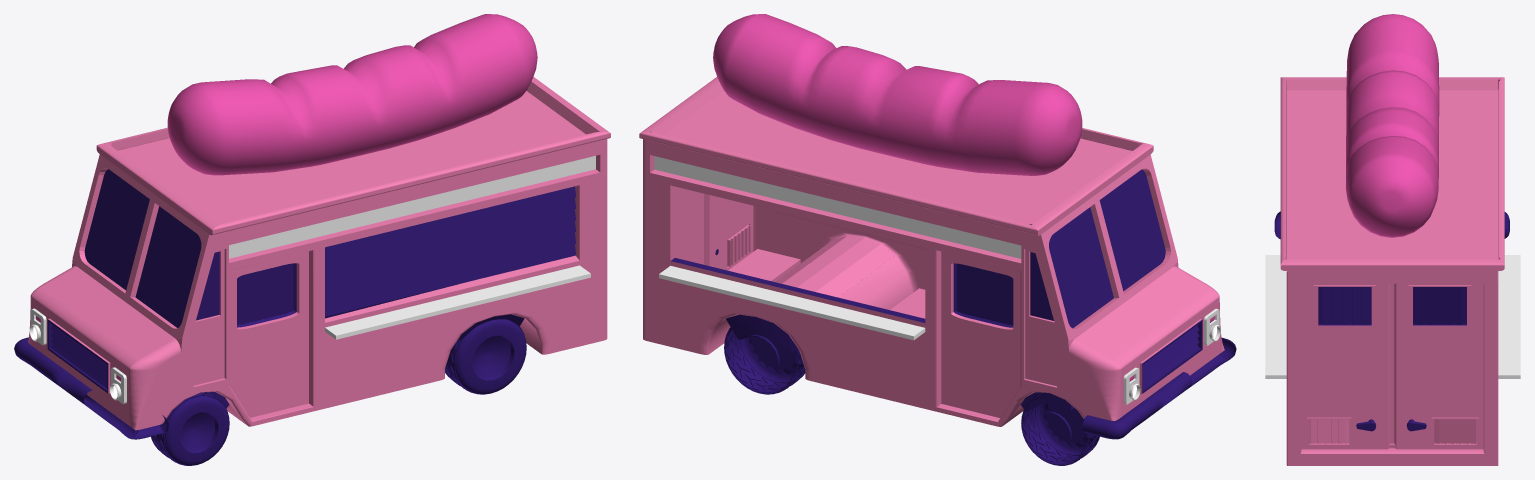
File: truck.glb
3 views of the same model, side by side, from view 1: azimuth 30°, elevation 25°; view 2: azimuth 150°, elevation 25°; view 3: azimuth 270°, elevation 25° (orthographic). The views are drawn at different scales.
Parts seen in each view (by area): view 1: TRUCK, pCylinder1, TIRES, SERVING COUNTER, BUMPER, HEADLIGHTS; view 2: TRUCK, pCylinder1, TIRES, SERVING COUNTER, BUMPER, HEADLIGHTS; view 3: TRUCK, pCylinder1, SERVING COUNTER, HANDLES, BUMPER.
Part boxes in pixels (x1,y1,x2,y2): TRUCK: (28, 77, 610, 430); pCylinder1: (167, 14, 537, 175); TIRES: (151, 319, 526, 465); SERVING COUNTER: (325, 265, 590, 339); BUMPER: (14, 337, 168, 439); HEADLIGHTS: (29, 308, 126, 404); TRUCK: (639, 77, 1224, 426); pCylinder1: (713, 14, 1082, 175); TIRES: (724, 322, 1099, 465); SERVING COUNTER: (659, 265, 925, 340); BUMPER: (1082, 337, 1236, 439); HEADLIGHTS: (1123, 308, 1220, 404); TRUCK: (1280, 77, 1504, 465); pCylinder1: (1346, 14, 1439, 237); SERVING COUNTER: (1265, 255, 1520, 378); HANDLES: (1356, 419, 1426, 431); BUMPER: (1274, 211, 1509, 239).
Bounding box in the file's own units: 3.04 × 1.96 × 1.43.
